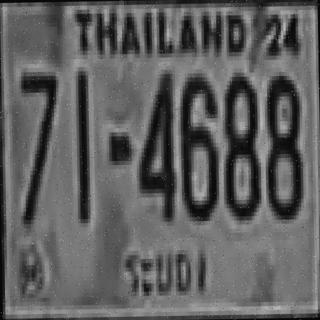N01: (73, 69, 88, 221)
N04: (135, 69, 175, 218)
N06: (177, 68, 217, 217)
N07: (18, 67, 58, 224), (18, 69, 58, 197)
N08: (264, 72, 301, 216), (222, 72, 259, 216)
P53: (122, 241, 214, 307)
